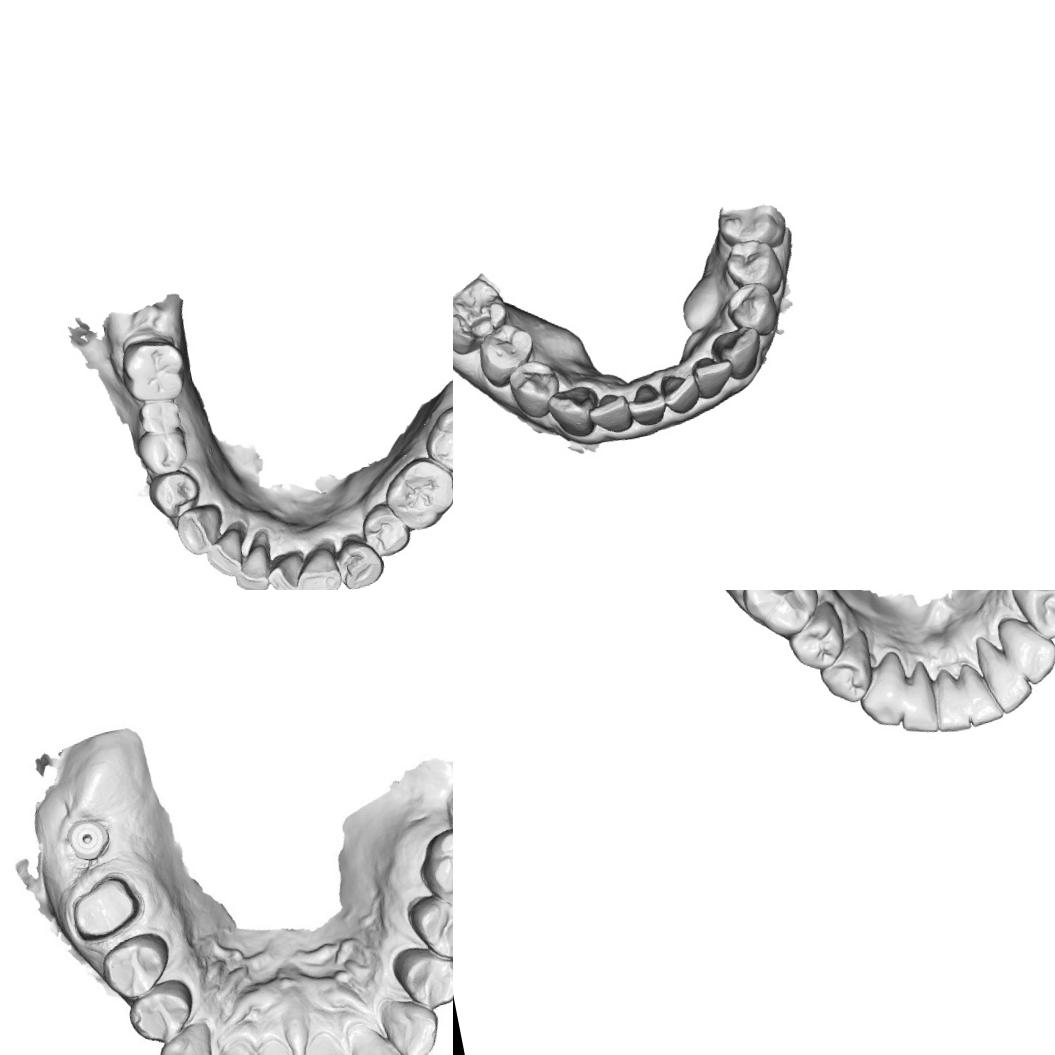canine: (850, 649, 914, 731), (994, 608, 1055, 689), (542, 380, 605, 442), (381, 992, 443, 1055), (707, 322, 768, 384), (171, 500, 228, 558), (287, 540, 344, 590), (155, 1022, 217, 1055)
crown: (62, 865, 151, 947)
implant: (62, 810, 114, 864)
incisor: (972, 627, 1036, 717), (889, 658, 942, 738), (956, 657, 1004, 727), (926, 664, 972, 735), (201, 526, 250, 580), (688, 350, 739, 401), (584, 388, 634, 437), (622, 378, 670, 429), (227, 541, 273, 590), (658, 367, 703, 417), (348, 1019, 403, 1055), (298, 1027, 366, 1055), (262, 549, 308, 590), (240, 1039, 307, 1055)
molar: (378, 450, 453, 535), (114, 332, 188, 409), (711, 188, 790, 258), (453, 272, 513, 359), (734, 590, 824, 643), (413, 821, 453, 916), (417, 397, 453, 479), (135, 396, 184, 438)
premolar: (810, 625, 878, 708), (780, 596, 849, 676), (472, 317, 541, 390), (125, 978, 195, 1048), (720, 233, 787, 303), (100, 933, 170, 1000), (393, 938, 453, 1016), (504, 355, 566, 423), (721, 277, 782, 342), (405, 889, 453, 970), (356, 497, 414, 560), (144, 466, 204, 522), (332, 531, 388, 590), (134, 424, 192, 478), (1009, 590, 1055, 644)
